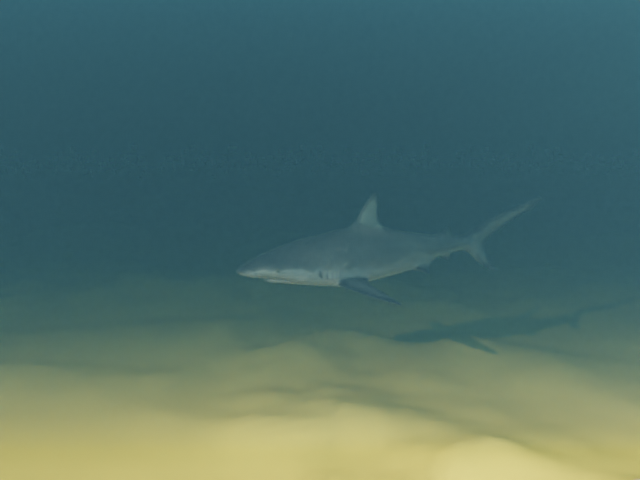Carribean Shark.001: (236, 192, 542, 305)
